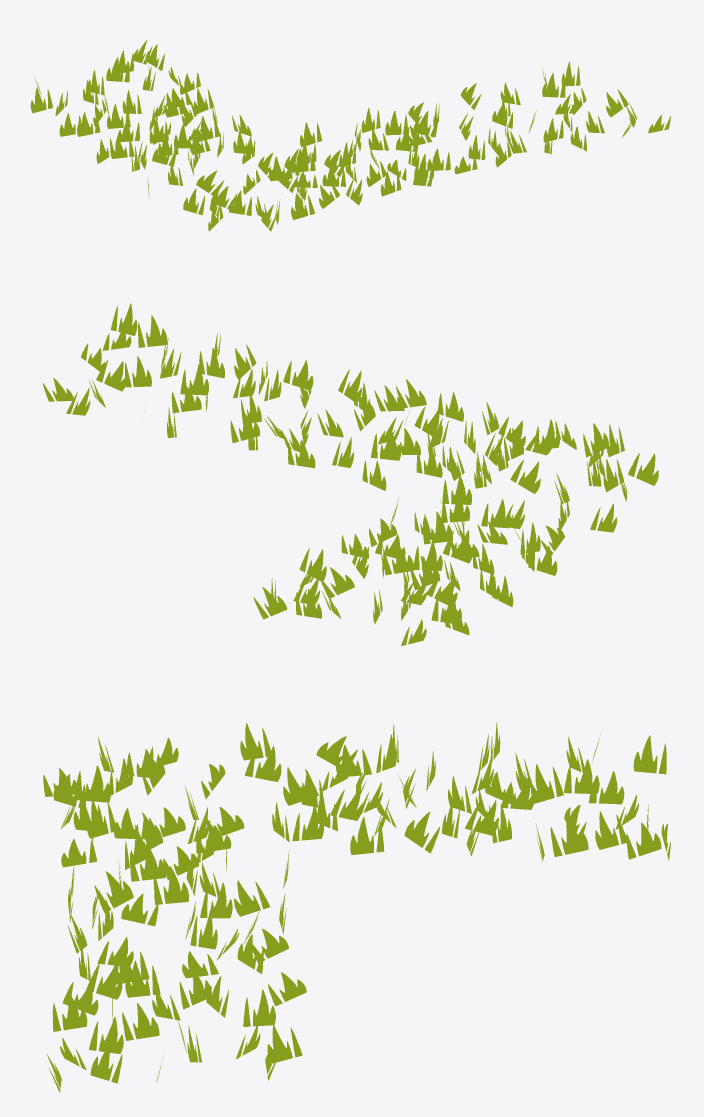
File: littleTerrain_grass.fbx
The picture shows the model from 3 angles, top to bottom: view 1: azimuth 30°, elevation 25°; view 2: azimuth 150°, elevation 25°; view 3: azimuth 270°, elevation 25°; orthographic projection. The views are drawn at different scales.
Visible parts, largest first — view 1: GrassBasePlane.002; view 2: GrassBasePlane.002; view 3: GrassBasePlane.002.
Boxes of the visible parts, x1,y1,x2,y2 form: GrassBasePlane.002: (30,39,670,231); GrassBasePlane.002: (43,303,658,645); GrassBasePlane.002: (43,722,670,1092).
Size of the model in its own units: 7.07 by 0.8215 by 5.56.
